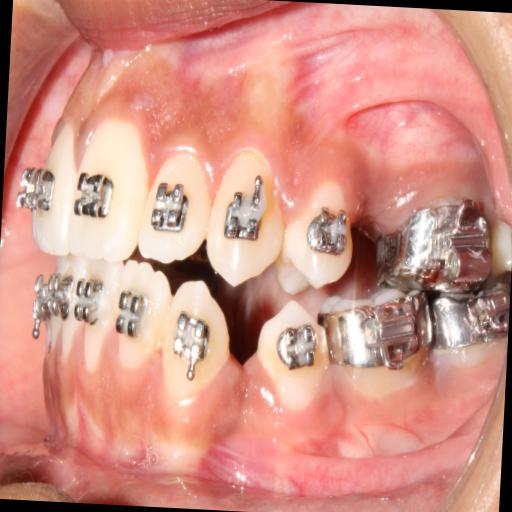correct_brace: (256, 296, 331, 412), (282, 183, 354, 288), (70, 162, 118, 230), (224, 180, 268, 250), (275, 319, 321, 380), (169, 309, 213, 365), (150, 178, 192, 235), (114, 283, 150, 345)
incorrect_brace: (138, 141, 209, 269), (113, 261, 171, 378), (308, 208, 350, 257)
